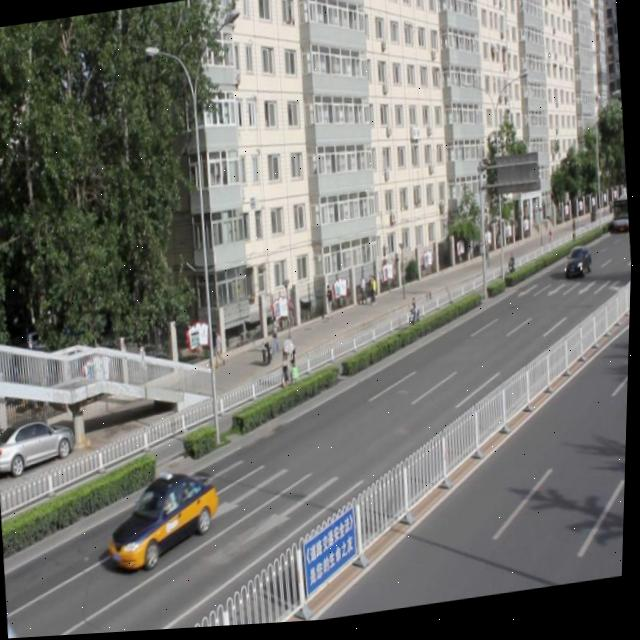car: (108, 465, 225, 572)
